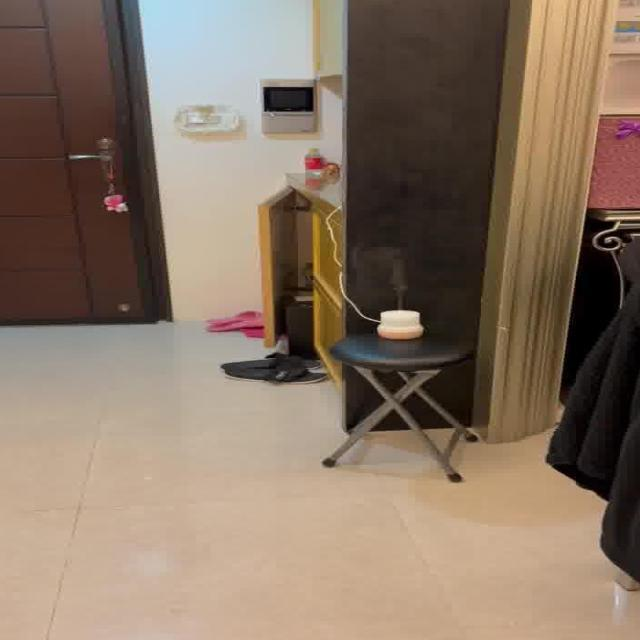fire: (362, 247, 420, 304)
